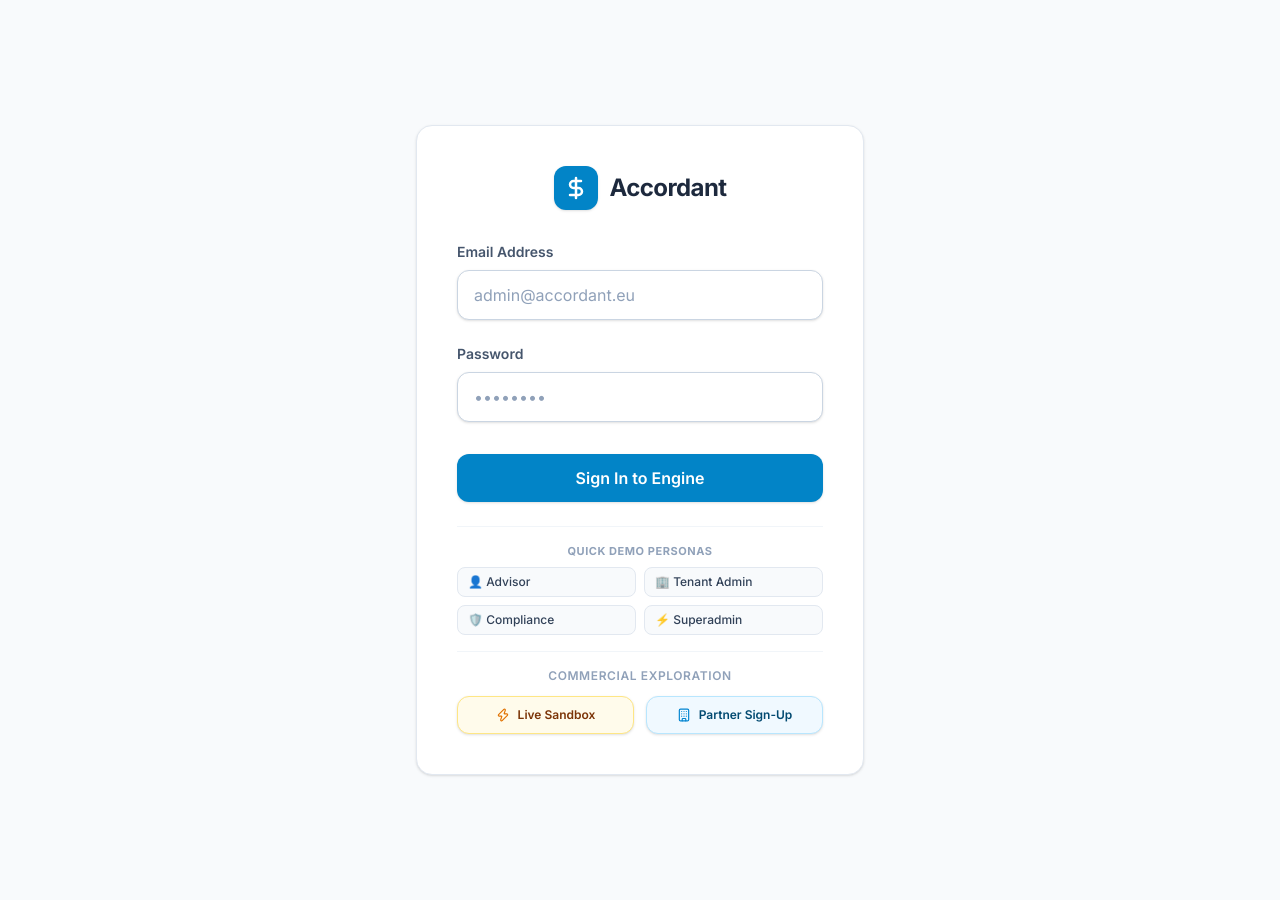
Slice 6: Commercial Funnel & White-Label Theming › displays commercial exploration options on unauthenticated App login view
Expected: the text "Commercial Exploration" is shown, [548,668,732,683]
Expected: the button "Partner Sign-Up" is shown, [646,696,823,734]
// Open sandbox modal
Click the button "Live Sandbox".
click(546, 715)  # box [457,696,634,734]
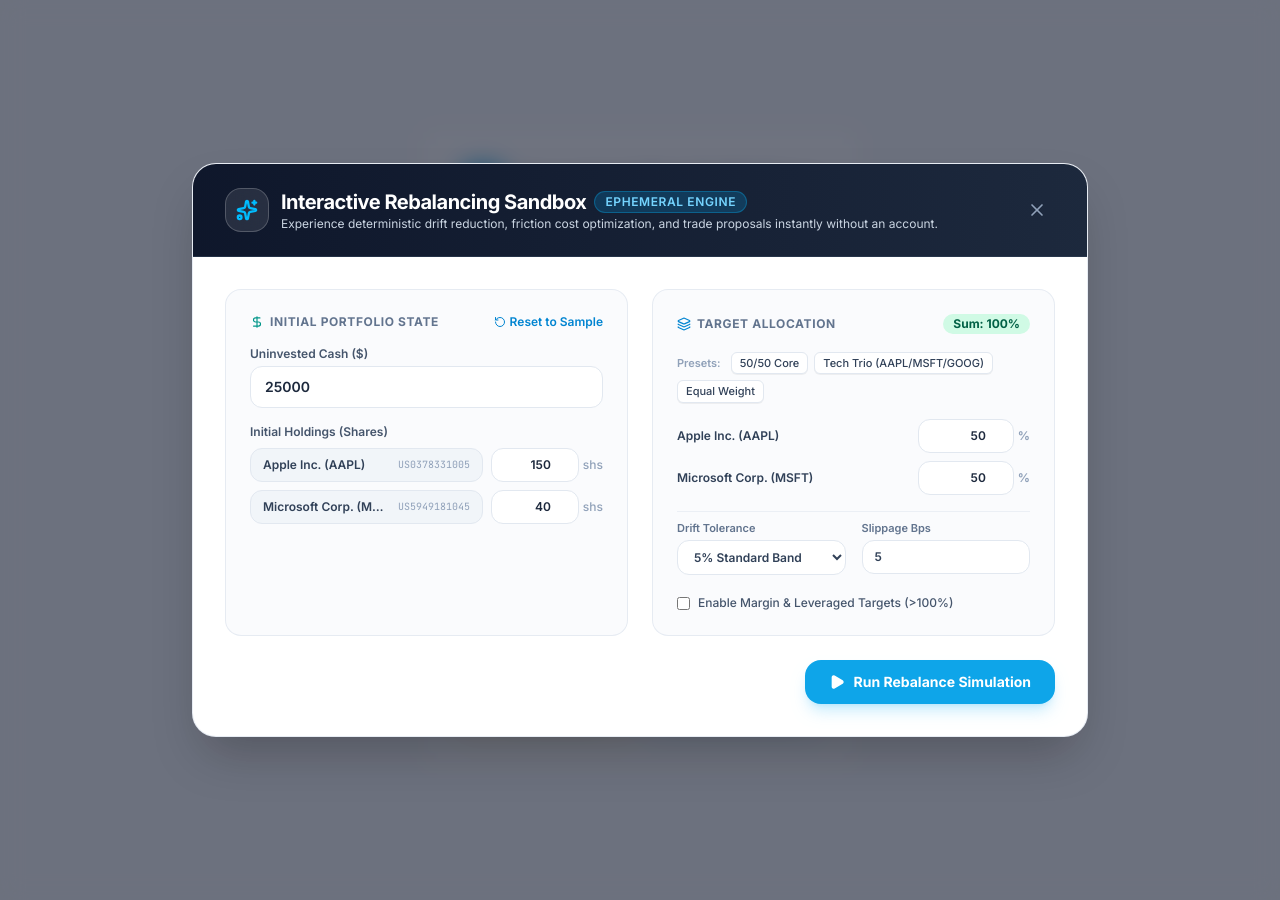
Now the heading "Interactive Rebalancing Sandbox Ephemeral Engine" is shown, box [281,190,747,214]
